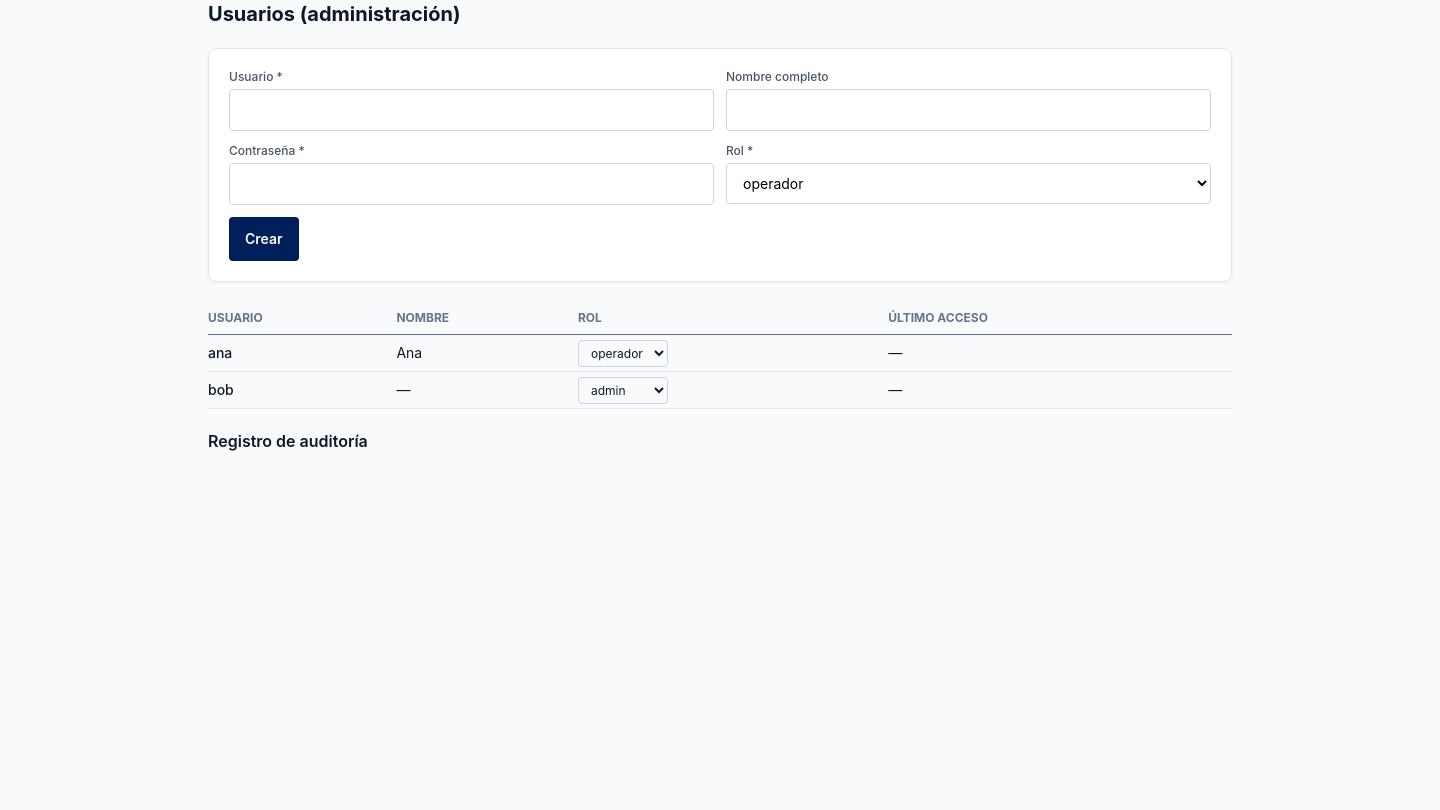
AdminUsersPage › updates the role only after confirming, then shows success feedback
Select "admin" in the dropdown named "Rol de ana" at (623, 353), box [578, 340, 668, 366]
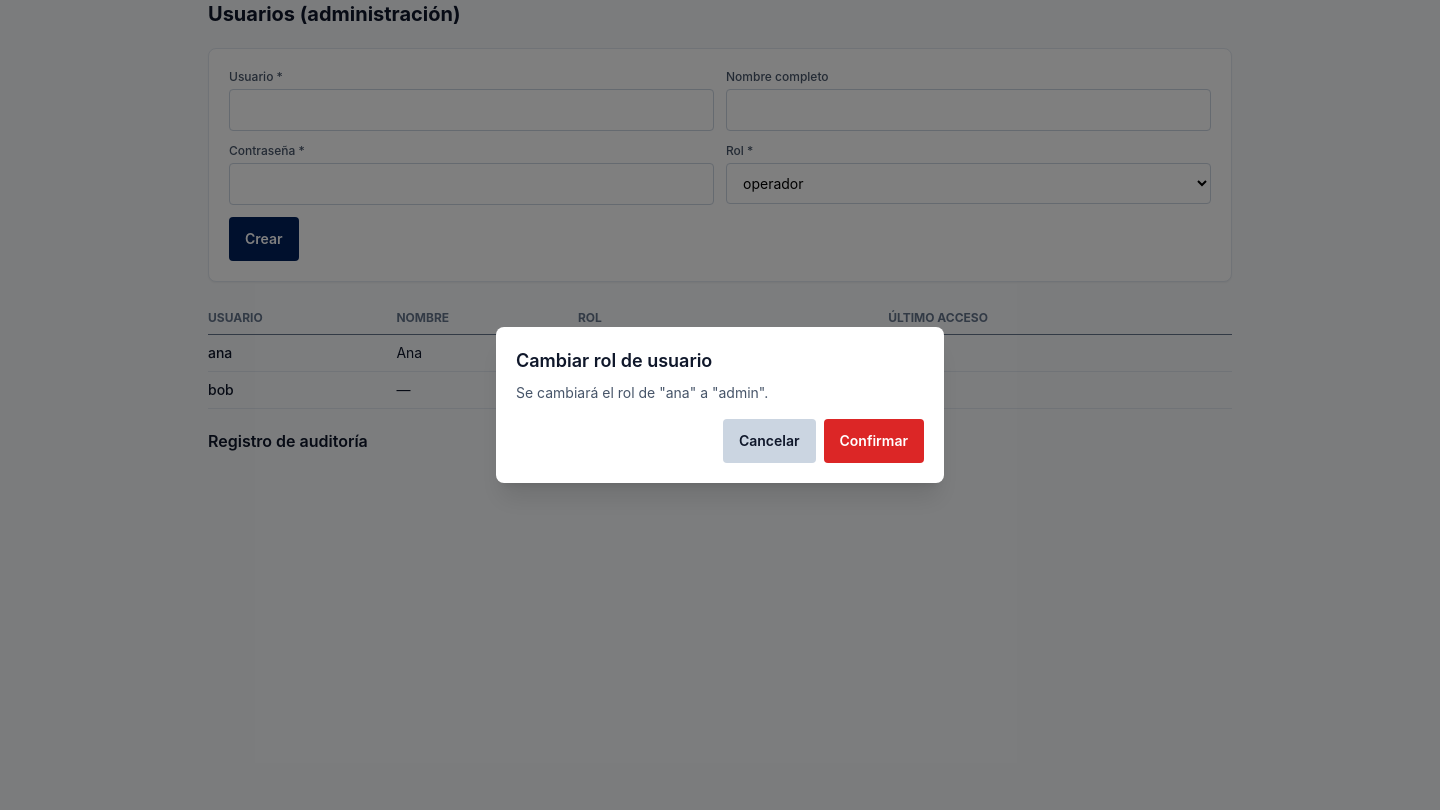
Click the button "Confirmar" at (874, 441), box [824, 419, 924, 463]
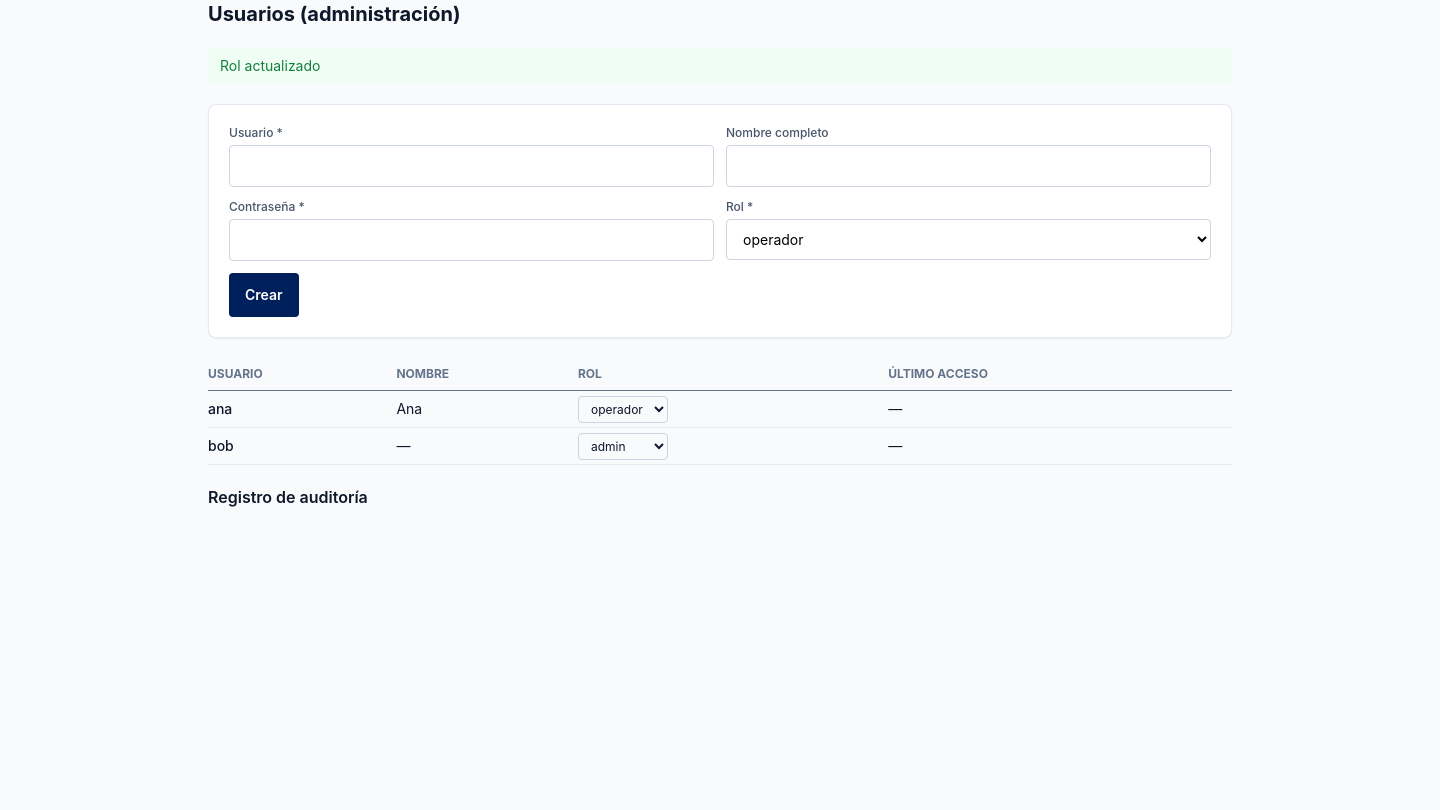
Expected: the text "Rol actualizado" is shown, [208, 48, 1232, 84]
